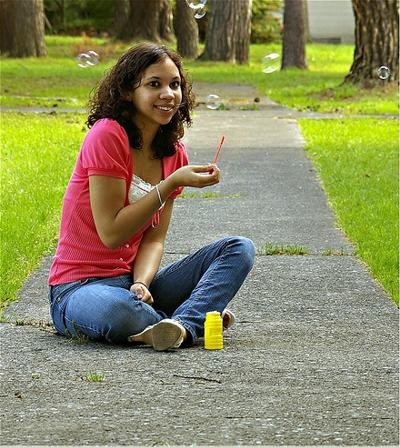person: (48, 45, 255, 354)
